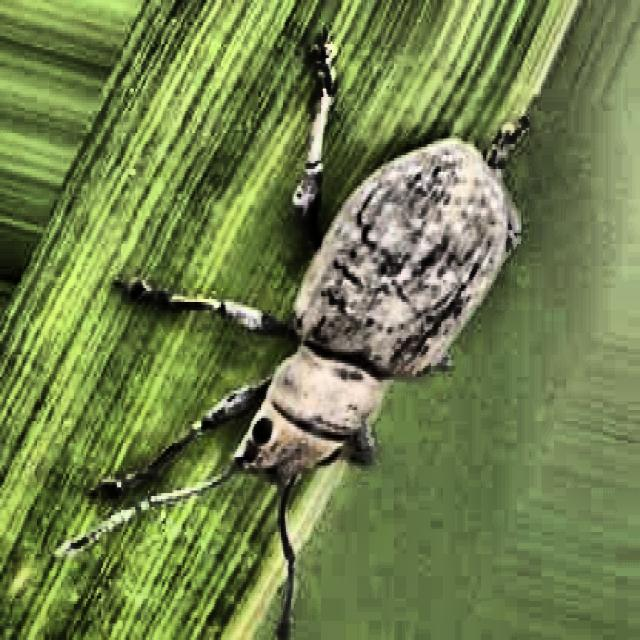Stink bug: (77, 58, 551, 603)
